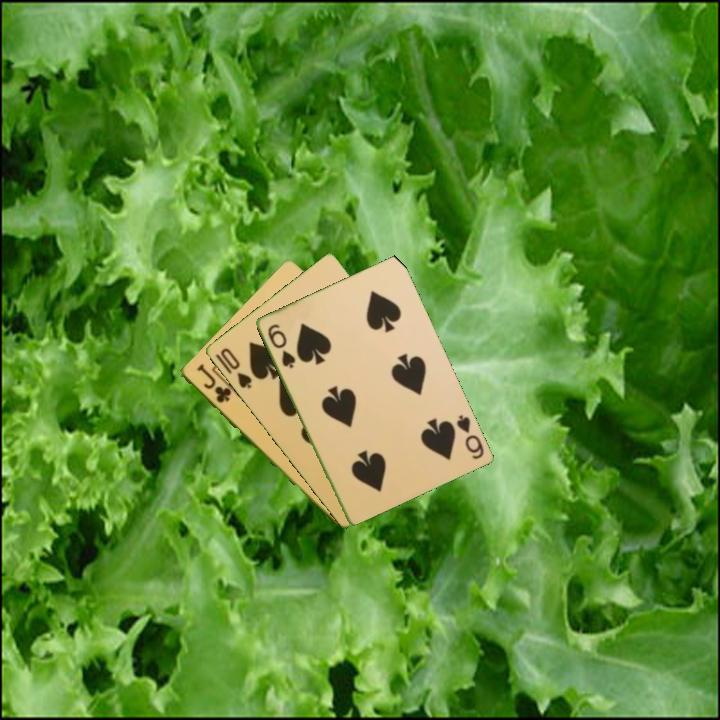10s: (216, 344, 254, 392)
6s: (264, 320, 298, 371), (452, 411, 486, 462)
Jc: (193, 361, 234, 406)
